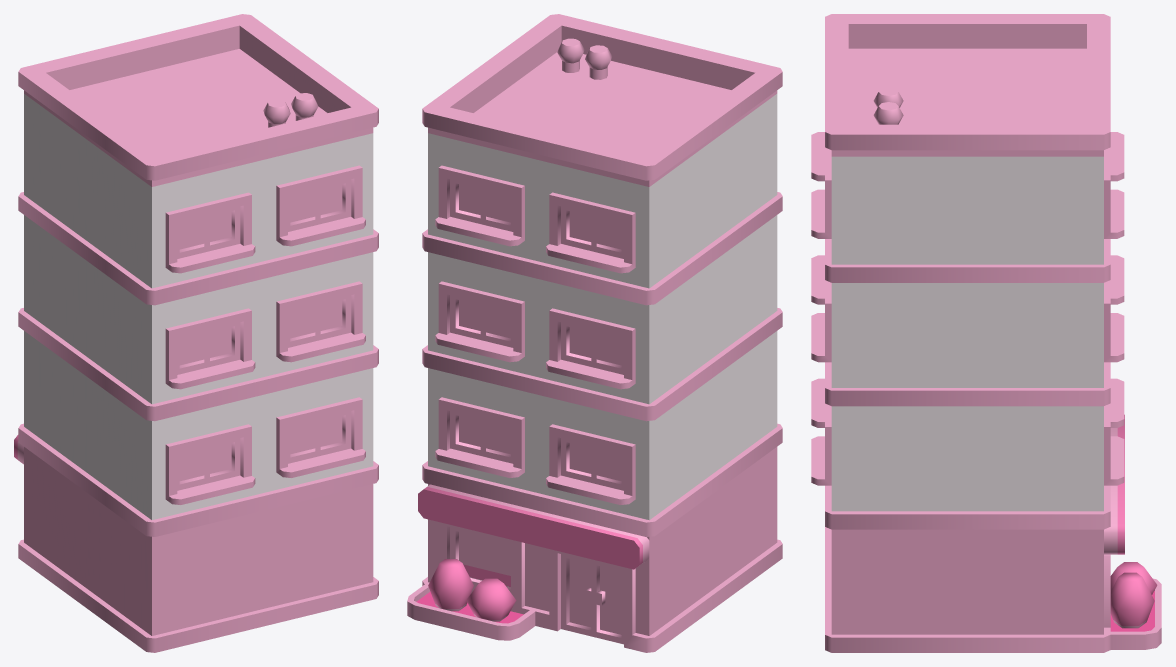
Rendered from building_f.obj.
3 renders of one model, left to right at view 1: azimuth 30°, elevation 25°; view 2: azimuth 150°, elevation 25°; view 3: azimuth 270°, elevation 25°, orthographic. The views are drawn at different scales.
Parts seen in each view (by area): view 1: building-f; view 2: building-f; view 3: building-f.
Part boxes in pixels (x1=…): building-f: x1=14, y1=14, x2=378, y2=652; building-f: x1=407, y1=14, x2=782, y2=652; building-f: x1=811, y1=14, x2=1161, y2=652.
Bounding box in the file's own units: 16.8 × 33.86 × 20.6.
Materials: 1 (1 with a texture image).
